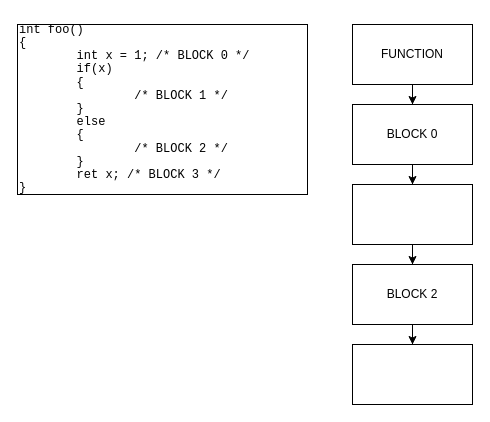
Some shapes in this 490 by 422 pixel diagram are drawn without their labels. The centre of each missing label's shape, as x and y in pixels:
BLOCK 1: point 412,214
BLOCK 3: point 412,374
